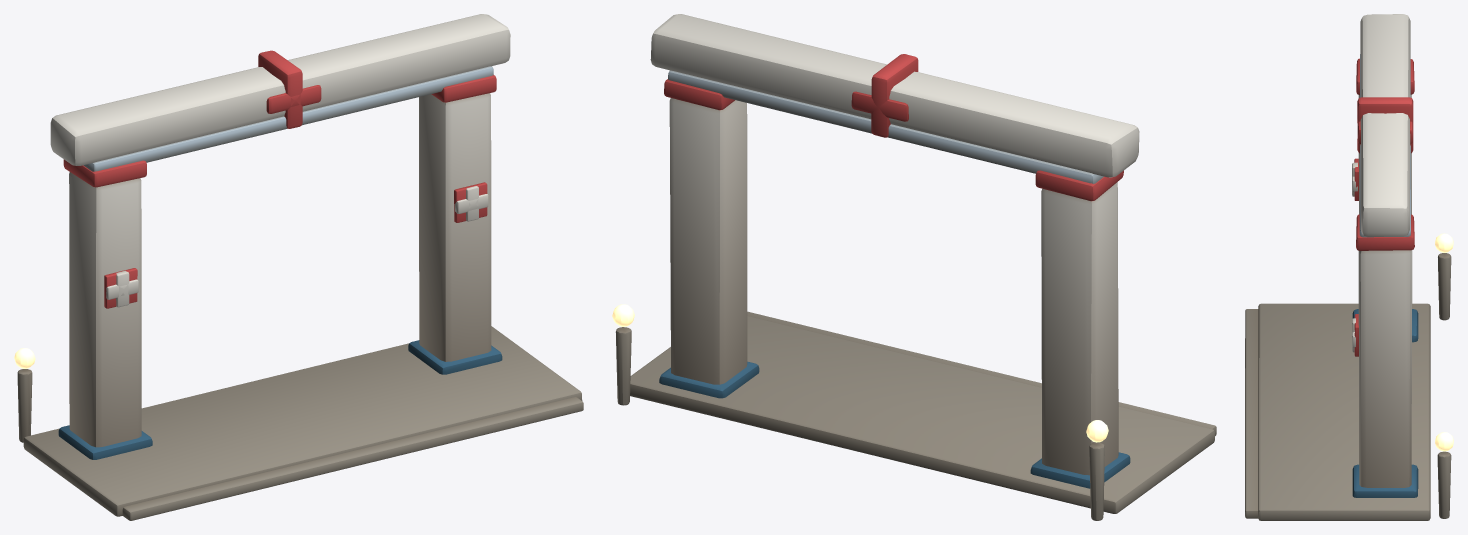
The picture shows the model from 3 angles, left to right: view 1: azimuth 30°, elevation 25°; view 2: azimuth 150°, elevation 25°; view 3: azimuth 270°, elevation 25°; orthographic projection. The views are drawn at different scales.
Visible parts, largest first — view 1: gate_9ac62196; view 2: gate_9ac62196; view 3: gate_9ac62196.
Part boxes in pixels (<box>): gate_9ac62196: <box>14,14,583,520</box>; gate_9ac62196: <box>612,14,1216,520</box>; gate_9ac62196: <box>1245,14,1453,520</box>.
Size of the model in its own units: 5.99 by 4.29 by 2.55.
